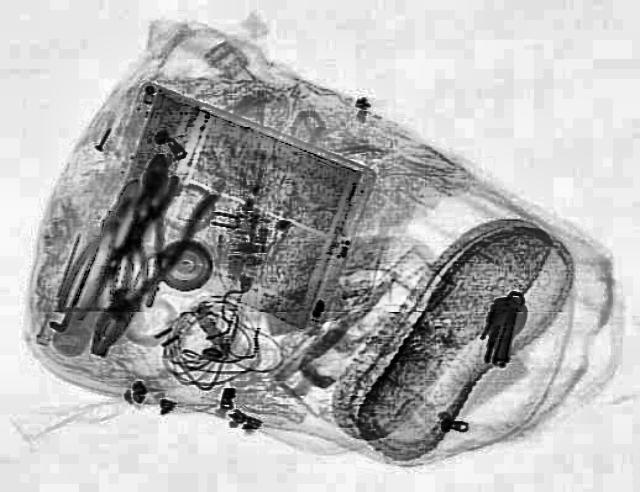Pliers: (68, 174, 220, 362), (99, 150, 185, 307)
